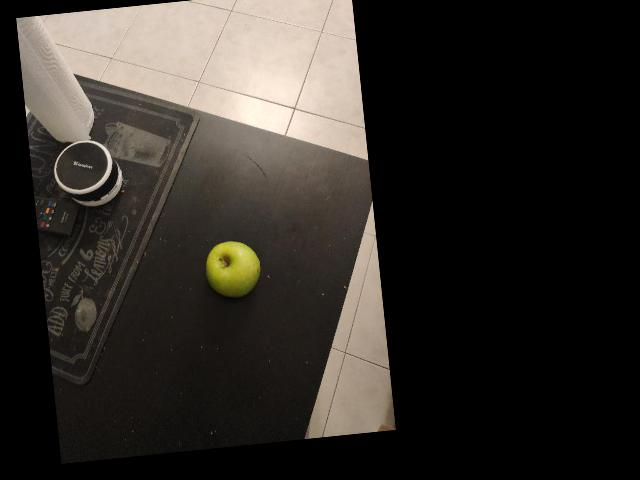apple: (262, 97, 350, 167)
